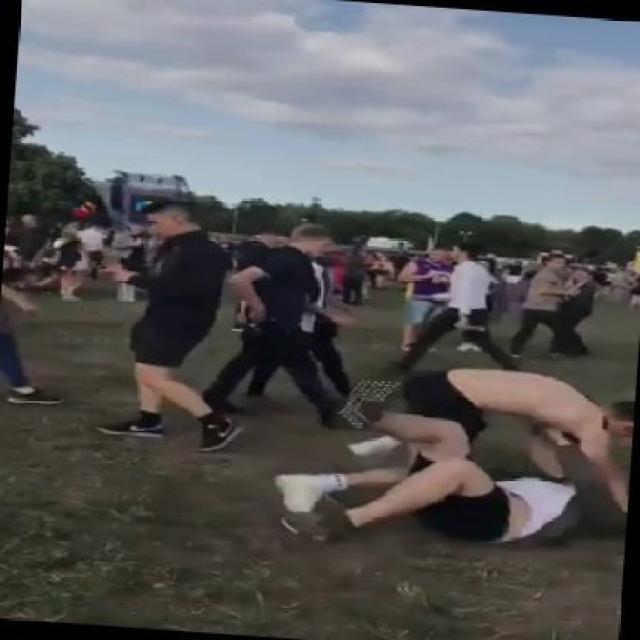fight: (271, 352, 640, 563)
non-fight: (86, 184, 249, 462)
